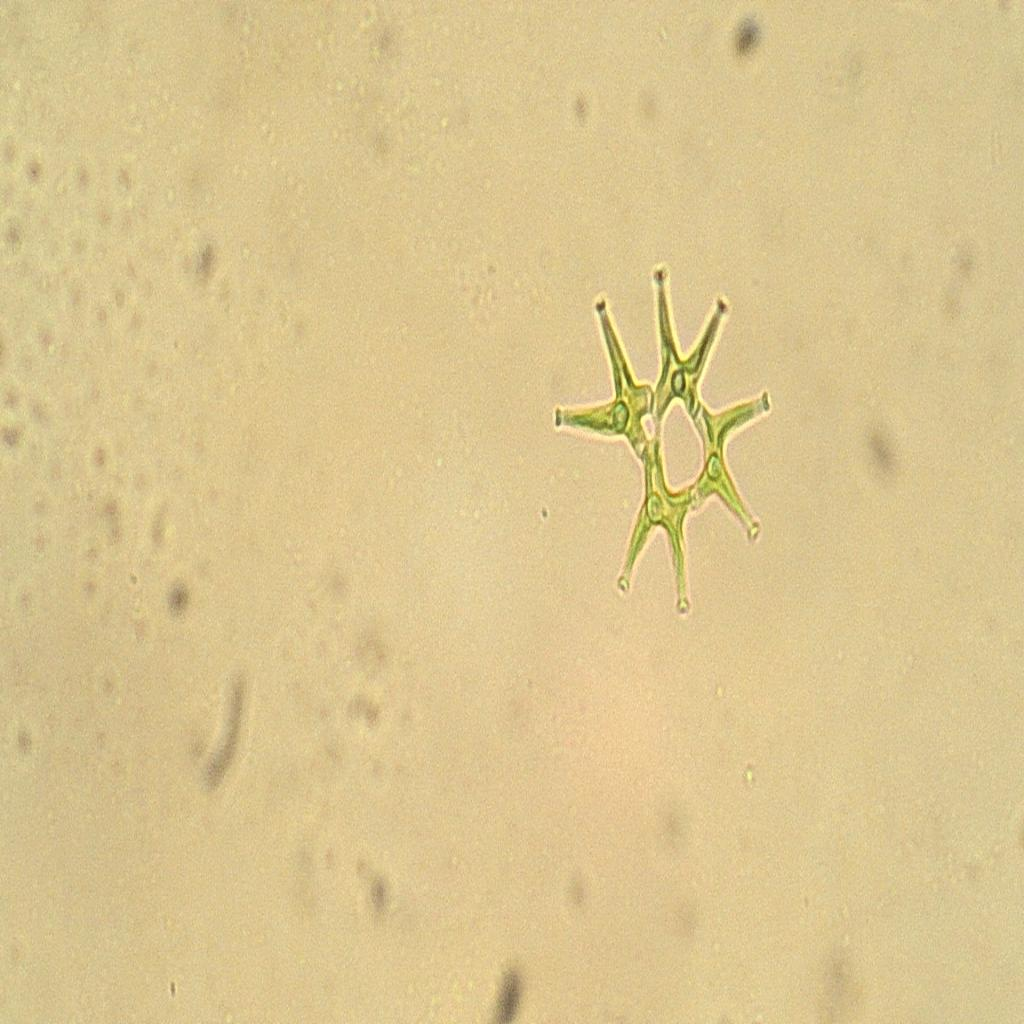Pediastrum_CF: (546, 235, 797, 636)
